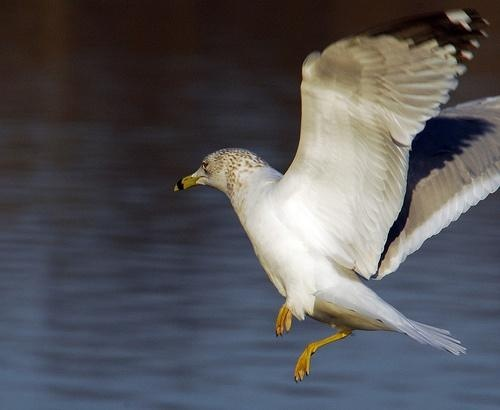bird: (170, 9, 500, 383)
